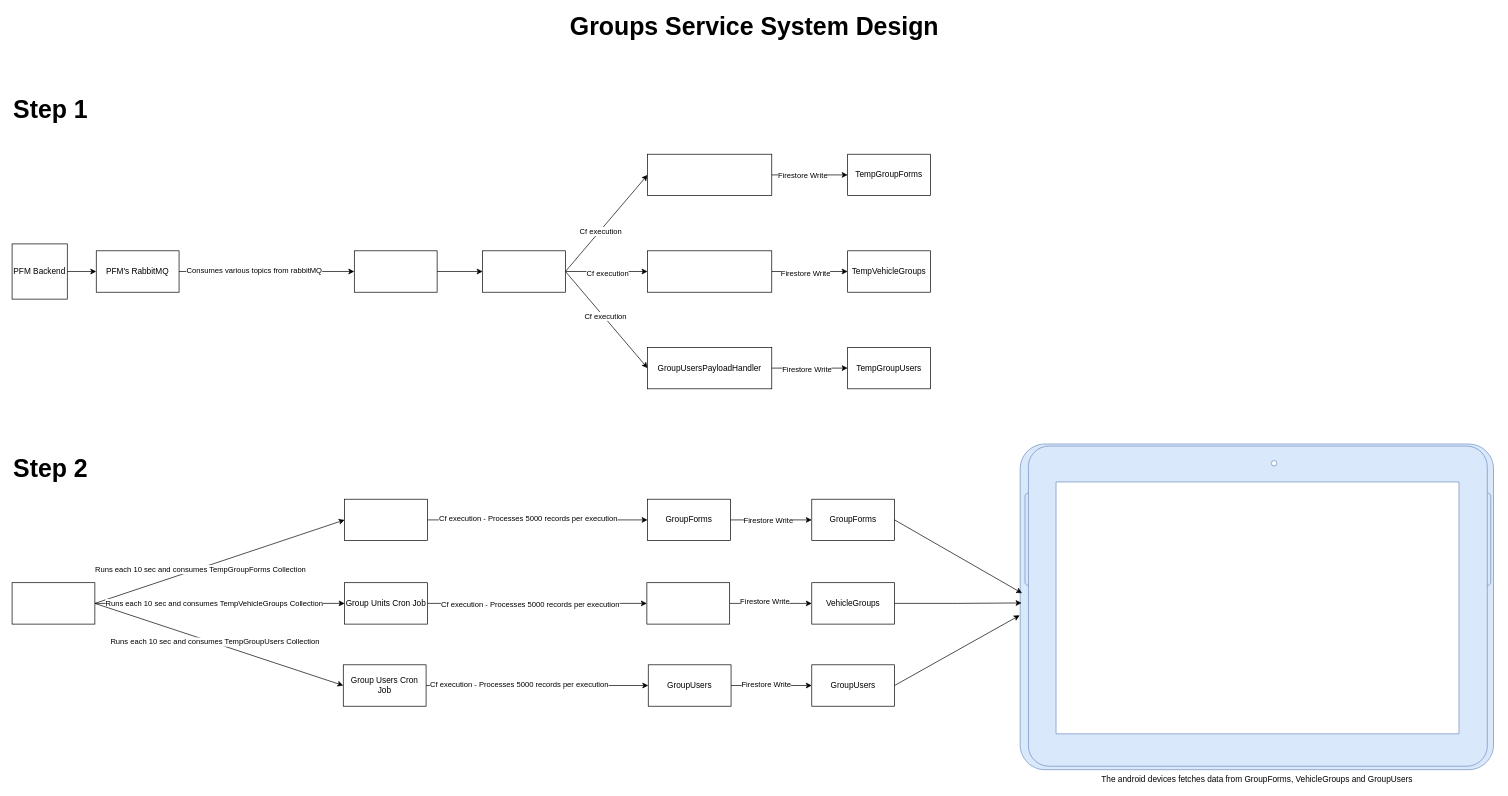
Some shapes in this 1508 by 796 pixel diagram are drawn without their labels. The centre of each missing label's shape, as x and y in pixels:
GCP Pub/Sub: pixel 523 271
Group Forms Cron Job: pixel 385 520
GroupFormsPayloadHandler: pixel 709 175
Groups Service (Springboot): pixel 53 603
GroupUnits: pixel 688 603
GroupUnitsPayloadHandler: pixel 709 271
Workflow Gateway Service (Springboot) Horizontally Scalable: pixel 395 271
